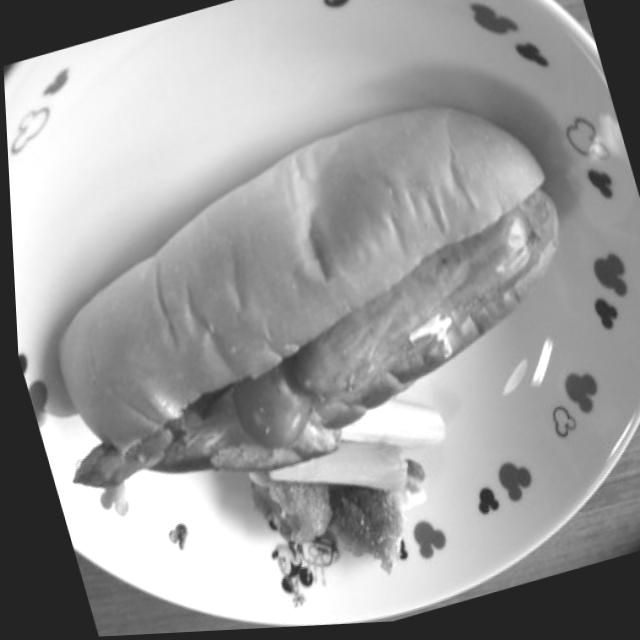汉堡快餐: (4, 69, 630, 546)
